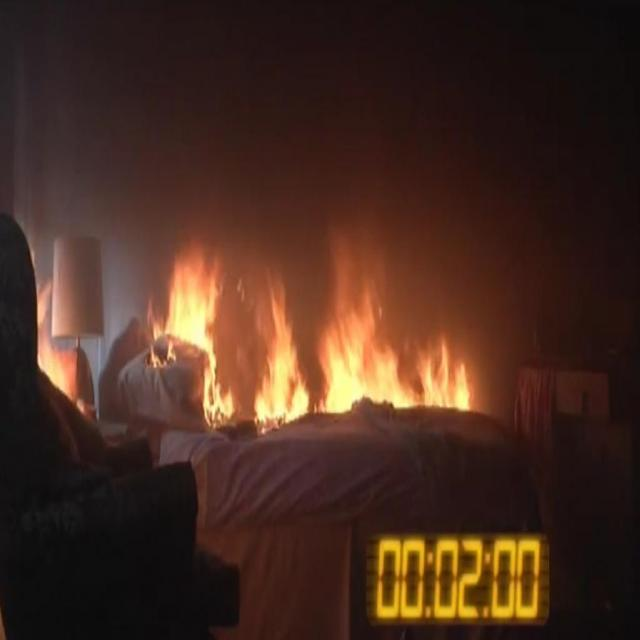fire: (143, 228, 484, 439), (22, 226, 92, 423)
